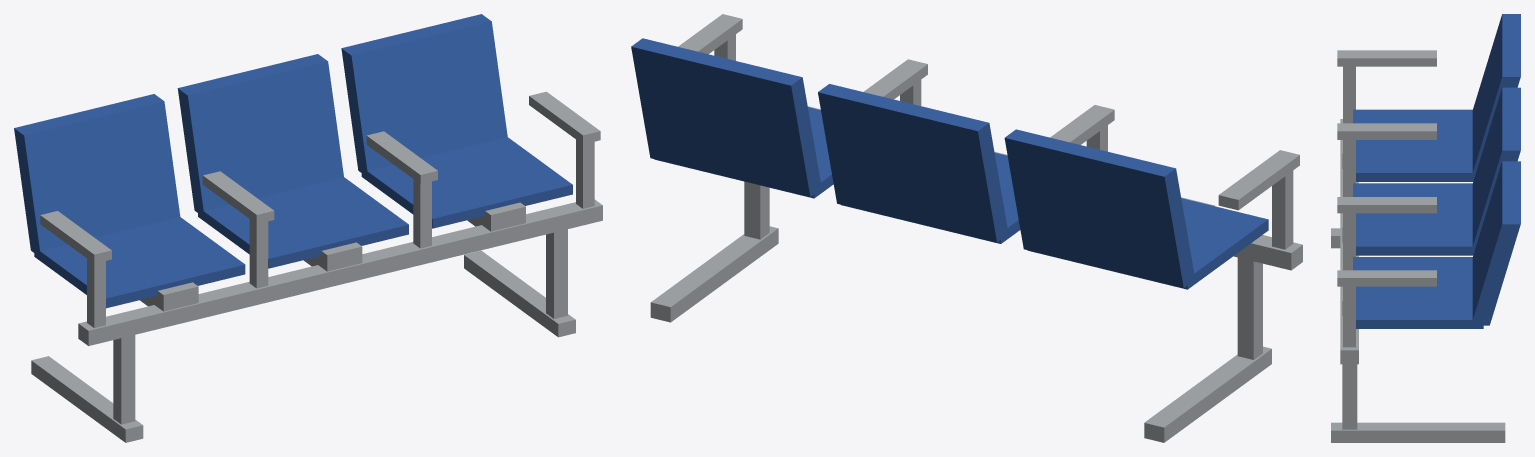
File: FN_Seating_Beam.glb
3 views of the same model, side by side, from view 1: azimuth 30°, elevation 25°; view 2: azimuth 150°, elevation 25°; view 3: azimuth 270°, elevation 25° (orthographic). The views are drawn at different scales.
Visible parts, largest first — view 1: FN_Seating_Beam; view 2: FN_Seating_Beam; view 3: FN_Seating_Beam.
Boxes of the visible parts, x1,y1,x2,y2 form: FN_Seating_Beam: (14,14,602,442); FN_Seating_Beam: (631,14,1302,442); FN_Seating_Beam: (1331,14,1520,442).
Size of the model in its own units: 1.76 by 0.79 by 0.61.
Materials: 1 (1 with a texture image).
